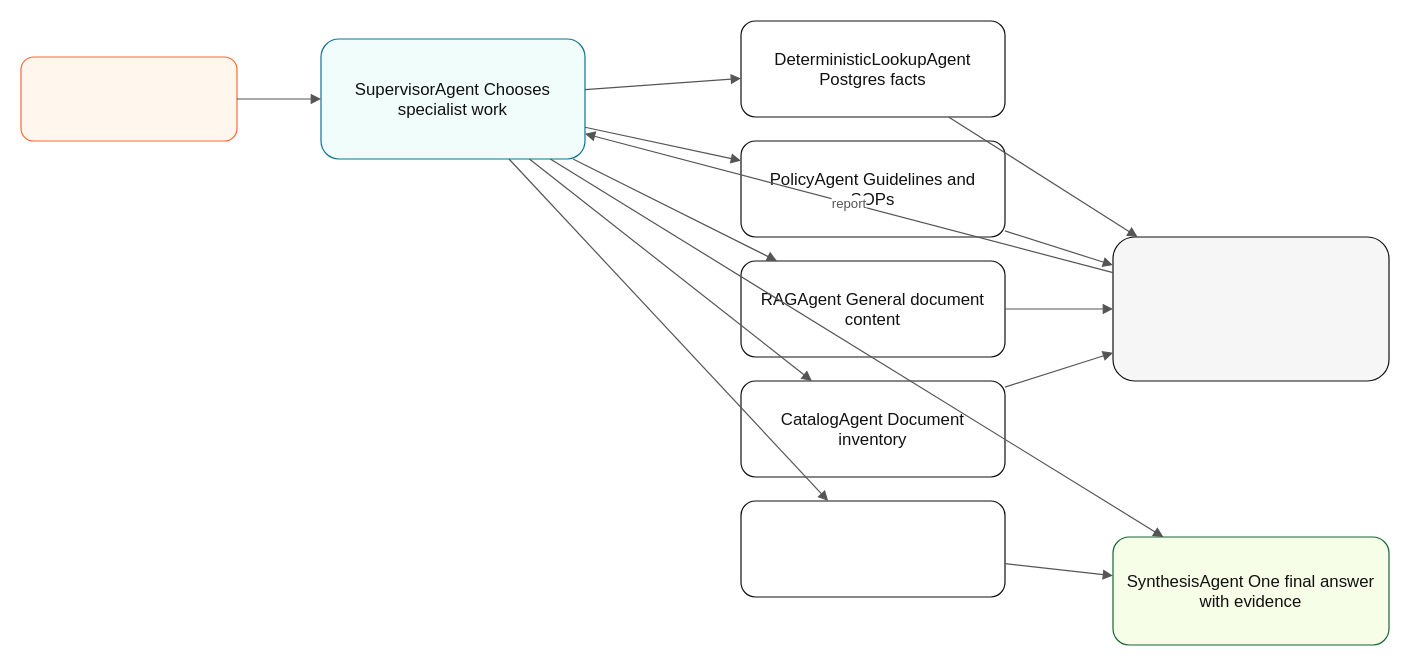
The diagram is 1410 pixels wide and 666 high, and some of its shapes have lost their labels. Here are the shapes that lost their labels. From the top down, the box of each, then its label:
(20, 56, 237, 141): User asks a question
(1112, 236, 1389, 381): Specialist selects allowed tools Local or MCP execution
(740, 500, 1005, 597): SafetyAgent Risk and PHI review
